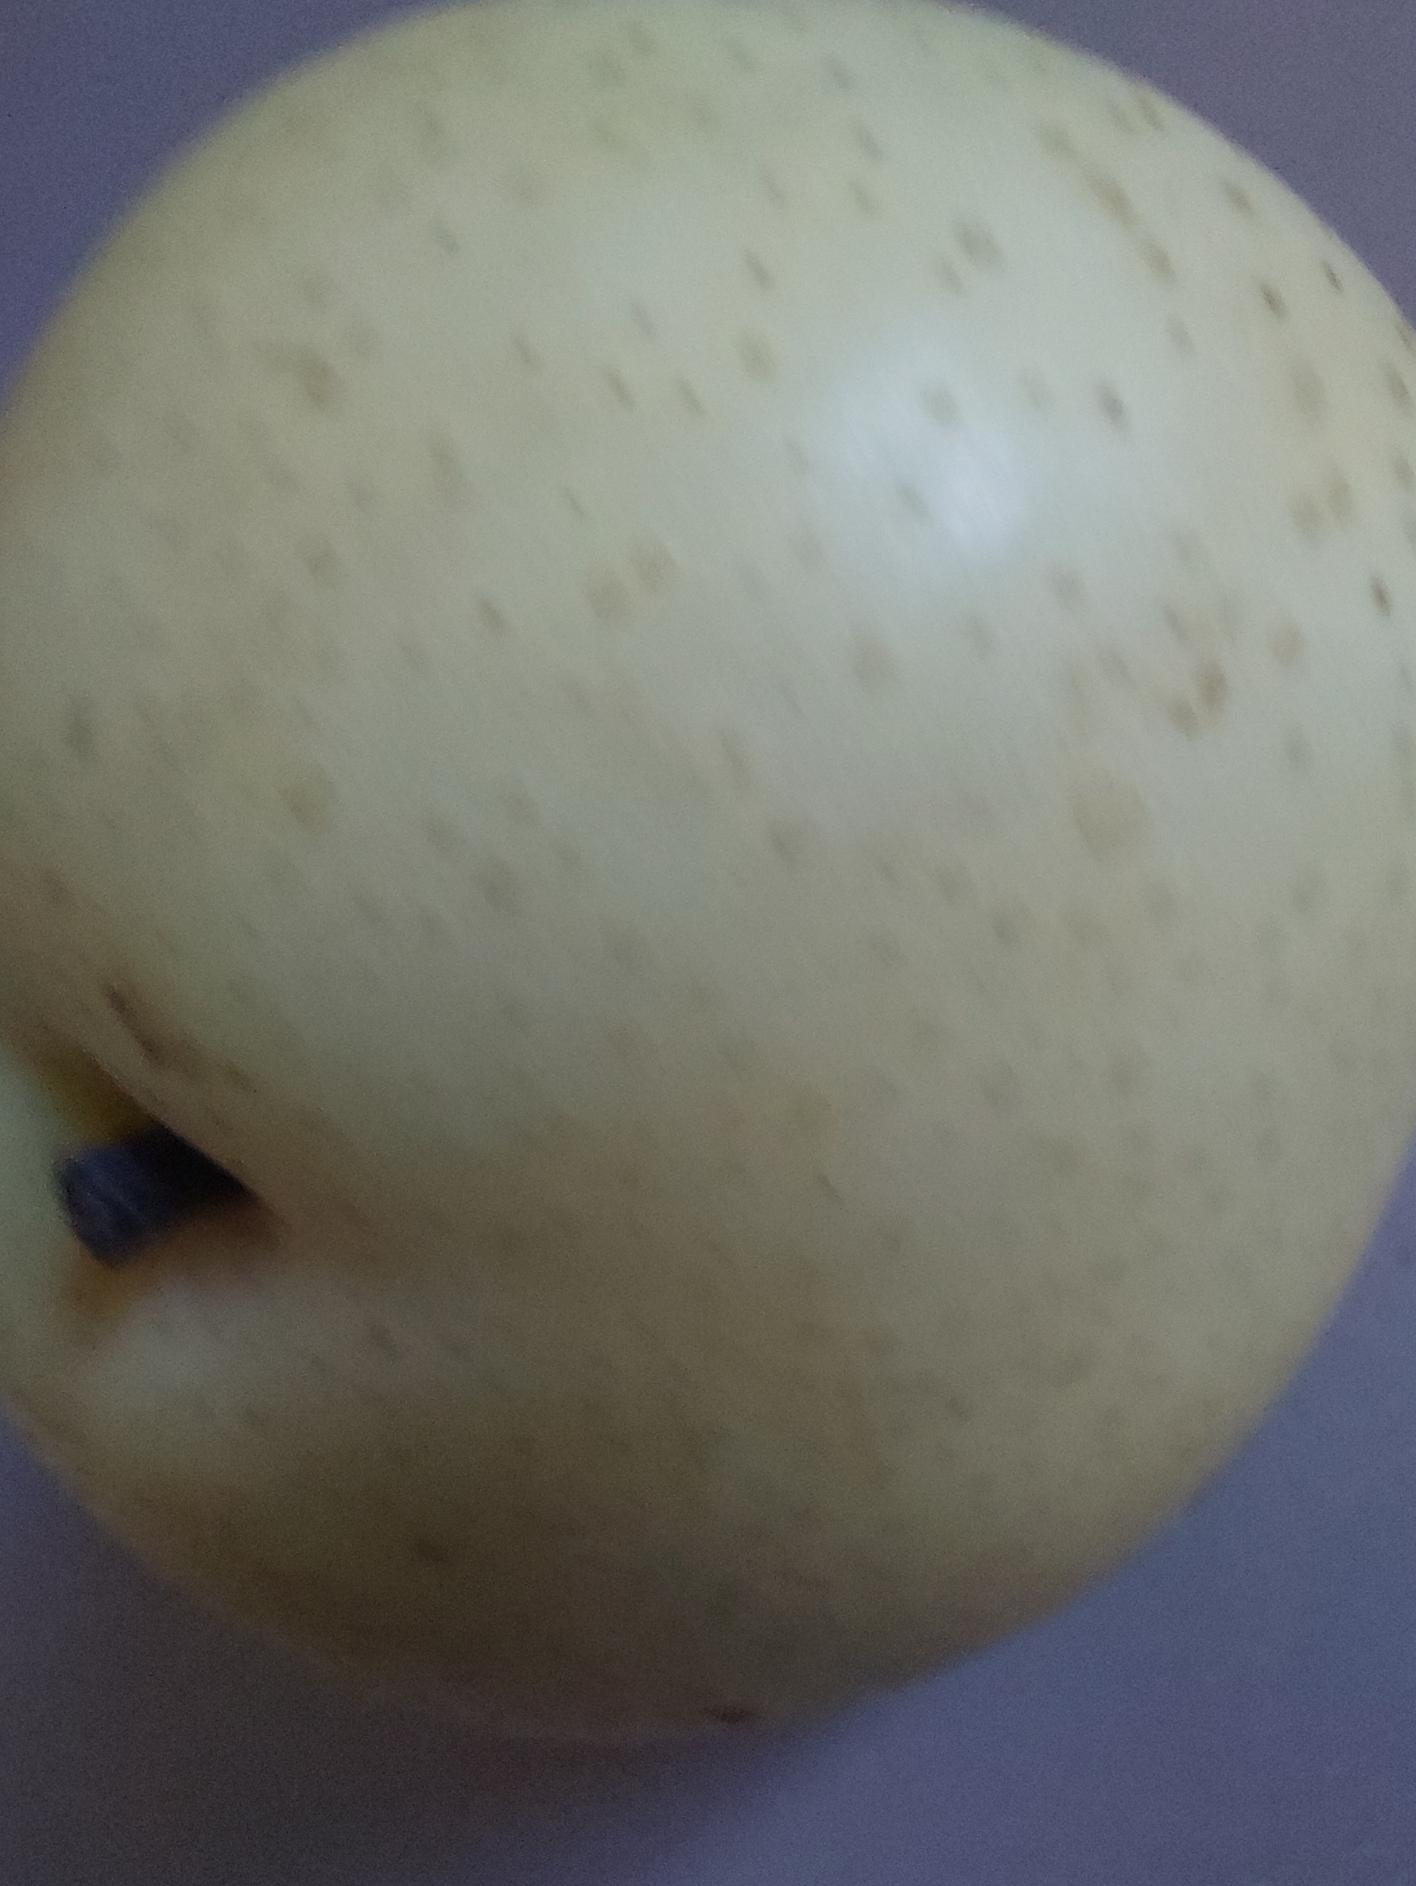Good Pear: (0, 0, 1416, 1755)
